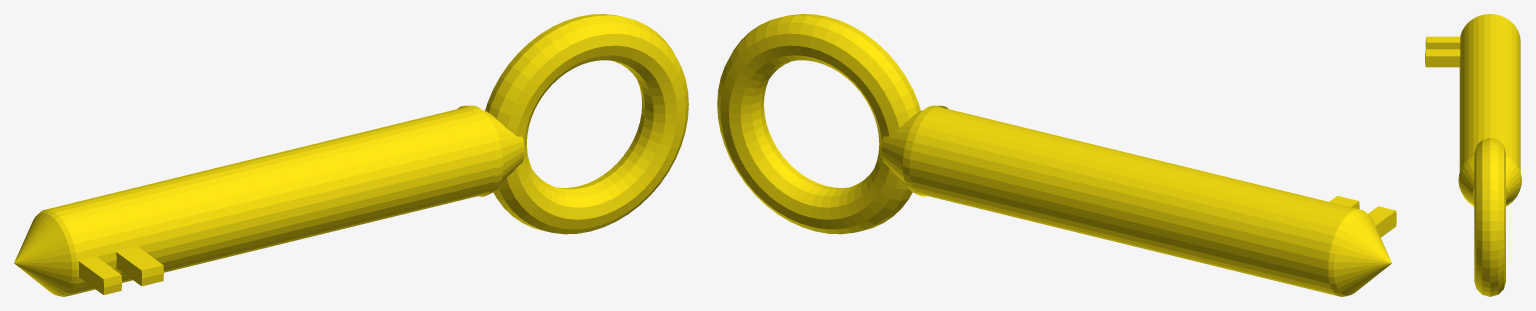
Rendered from Key.fbx.
3 views of the same model, side by side, from view 1: azimuth 30°, elevation 25°; view 2: azimuth 150°, elevation 25°; view 3: azimuth 270°, elevation 25° (orthographic). The views are drawn at different scales.
Visible parts, largest first — view 1: klucz; view 2: klucz; view 3: klucz.
Boxes of the visible parts, box(x1,y1,x2,y2) form: klucz: box(14, 14, 688, 296); klucz: box(717, 14, 1396, 296); klucz: box(1425, 14, 1521, 296).
Bounding box in the file's own units: 51.12 × 15.42 × 9.39.
